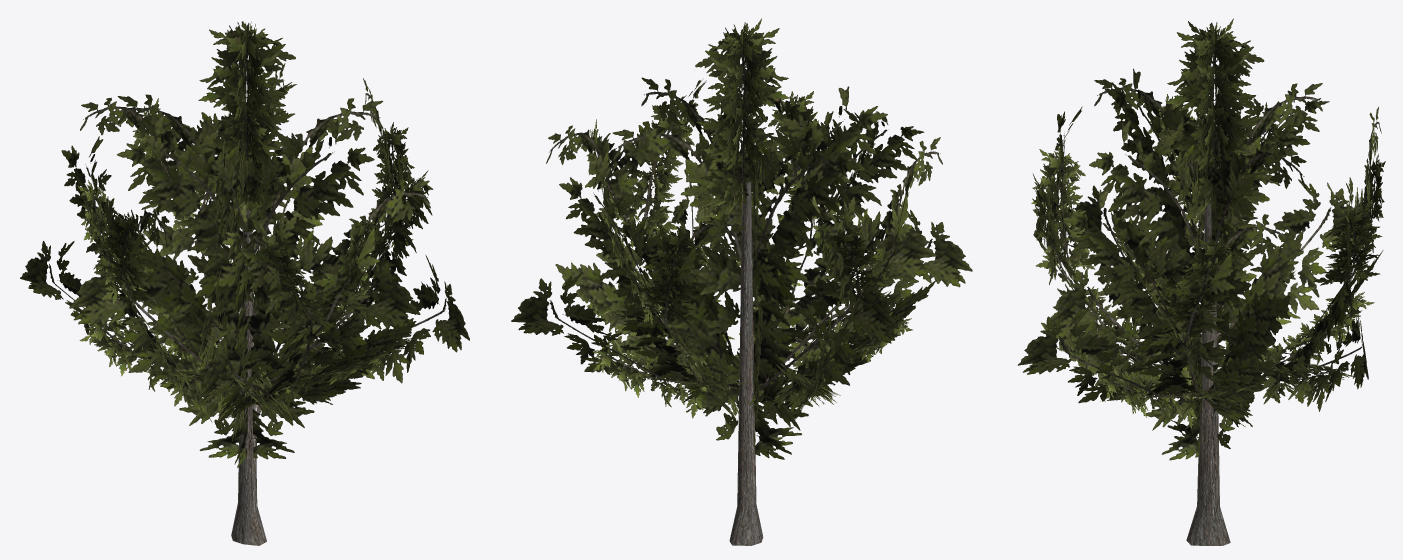
The model's file is Sharp_Maple10.gltf.
3 renders of one model, left to right at view 1: azimuth 30°, elevation 25°; view 2: azimuth 150°, elevation 25°; view 3: azimuth 270°, elevation 25°, orthographic.
Visible parts, largest first — view 1: Afol, Bfol, trunk; view 2: Bfol, Afol, trunk; view 3: Bfol, Afol, trunk.
Part boxes in pixels (<box>): Afol: <box>69,21,420,467</box>; Bfol: <box>20,78,469,424</box>; trunk: <box>231,195,266,545</box>; Bfol: <box>511,65,972,423</box>; Afol: <box>612,18,936,459</box>; trunk: <box>729,181,763,545</box>; Bfol: <box>1017,78,1385,428</box>; Afol: <box>1051,18,1322,460</box>; trunk: <box>1186,203,1230,545</box>.
Size of the model in its own units: 2.98 by 4.39 by 2.88.
2 materials, 2 textured.
